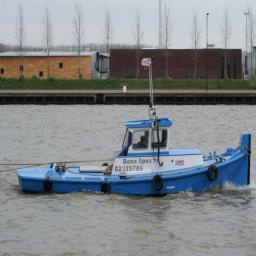tugboat: (16, 103, 254, 202)
